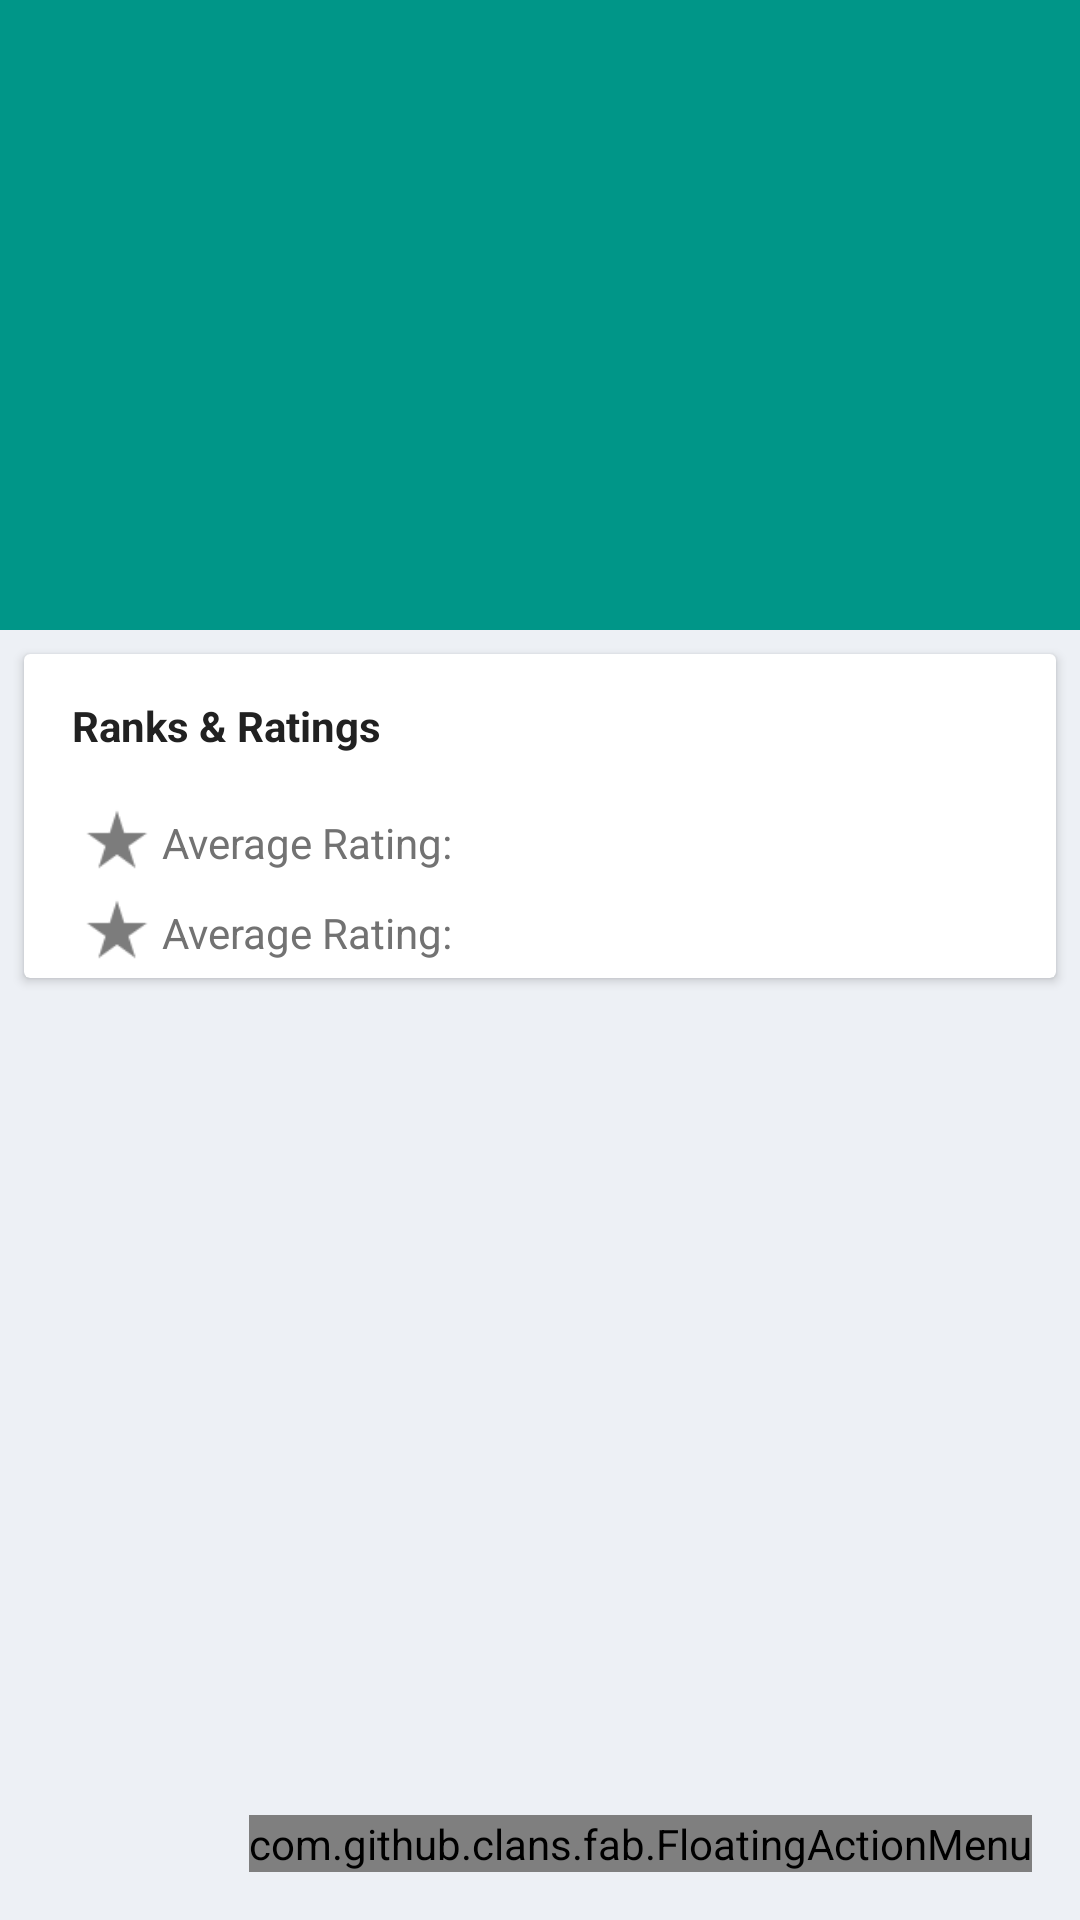

Icon bounding boxes for this 1080×1920 phone screenshot, format (x1, y1, x2, y2):
star rate: (87, 811, 147, 868), (87, 901, 147, 958)
